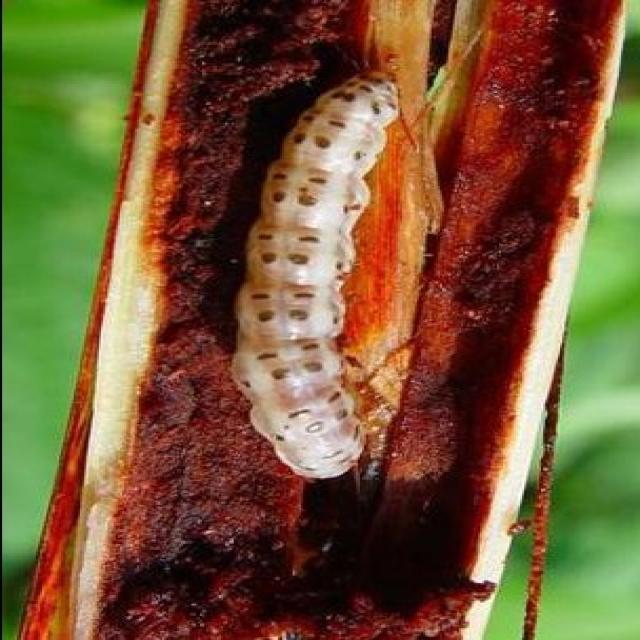peach borer: (232, 71, 411, 483)
